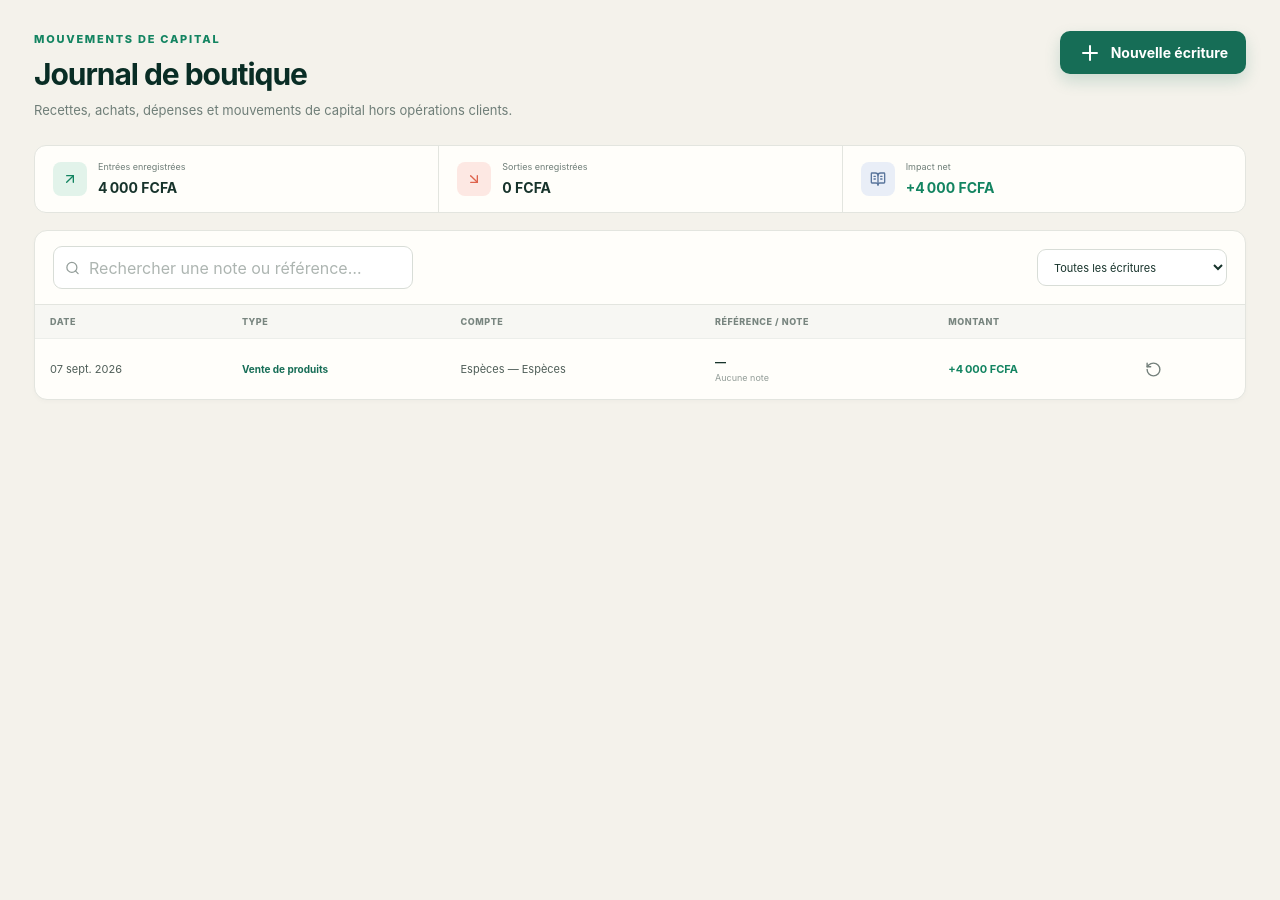
Scenario: produits et ventes › annonce la correction du stock lorsqu’une vente est annulée depuis le journal
The width and height of the screenshot is (1280, 900).
Expected: the text "Vente de produits" is shown, [242,363,328,375]
Click the button titled "Créer une contre-écriture": (1154, 369) [1136,351,1172,387]
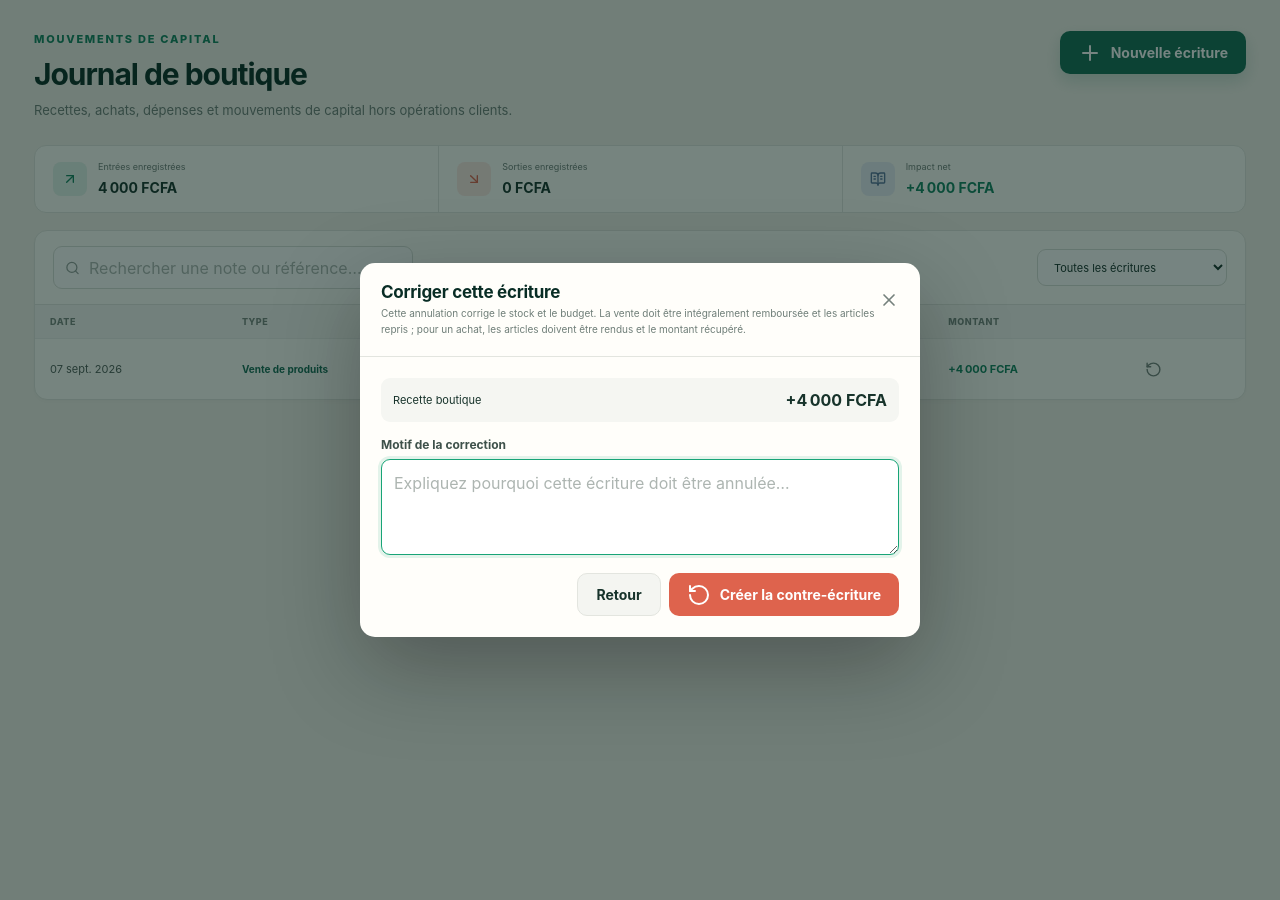
Expected: the text "Cette annulation corrige le stock et le budget" is shown, [381,307,874,334]
